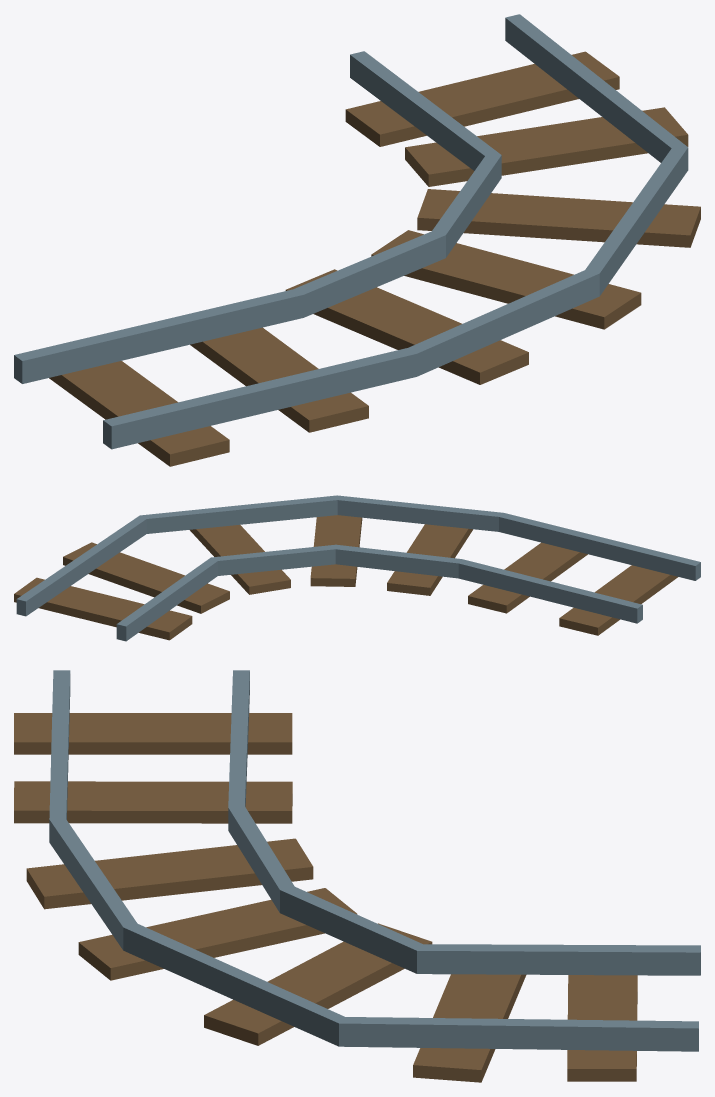
File: Rail-E01.fbx
The picture shows the model from 3 angles, top to bottom: view 1: azimuth 30°, elevation 25°; view 2: azimuth 150°, elevation 25°; view 3: azimuth 270°, elevation 25°; orthographic projection. The views are drawn at different scales.
Visible parts, largest first — view 1: Rail-E01; view 2: Rail-E01; view 3: Rail-E01.
Part boxes in pixels (x1,y1,x2,y2): Rail-E01: (14,14,700,466); Rail-E01: (14,495,700,641); Rail-E01: (14,670,700,1082).
Bounding box in the file's own units: 629 × 28.05 × 485.
